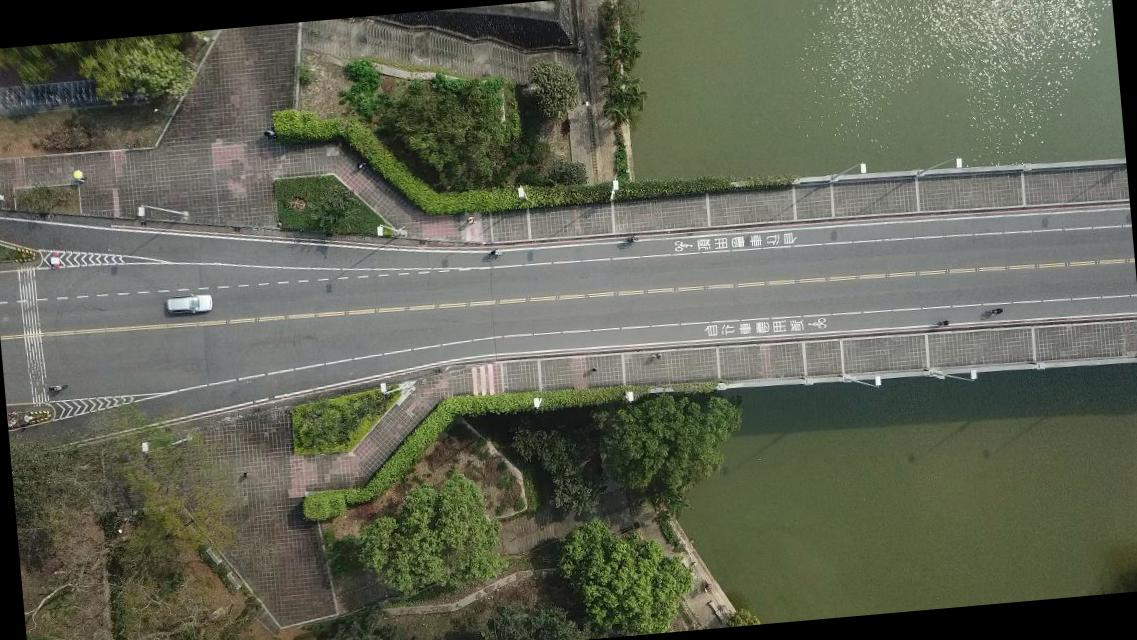vehicle: (164, 291, 213, 316)
